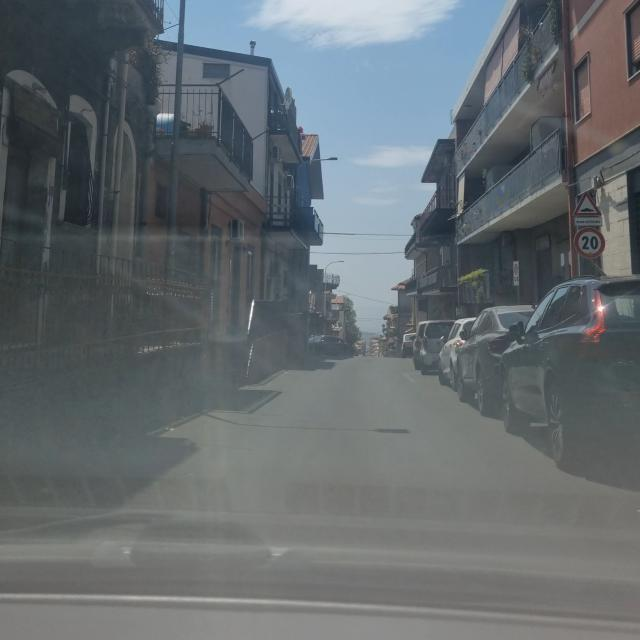forb_speed_over_20: (574, 227, 605, 258)
